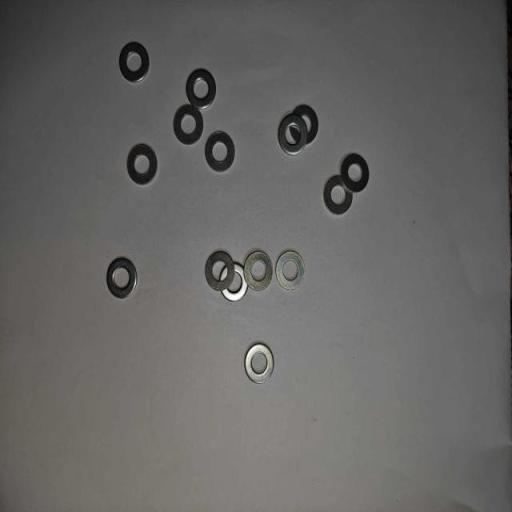Washer: (276, 111, 308, 155), (105, 256, 137, 300), (242, 248, 274, 292), (126, 143, 159, 185), (118, 41, 150, 84), (172, 103, 204, 146), (288, 103, 320, 146), (322, 172, 354, 215), (243, 341, 275, 384), (204, 130, 235, 174), (203, 249, 234, 293), (185, 68, 217, 110), (274, 248, 305, 291), (338, 152, 370, 193), (219, 263, 248, 303)
